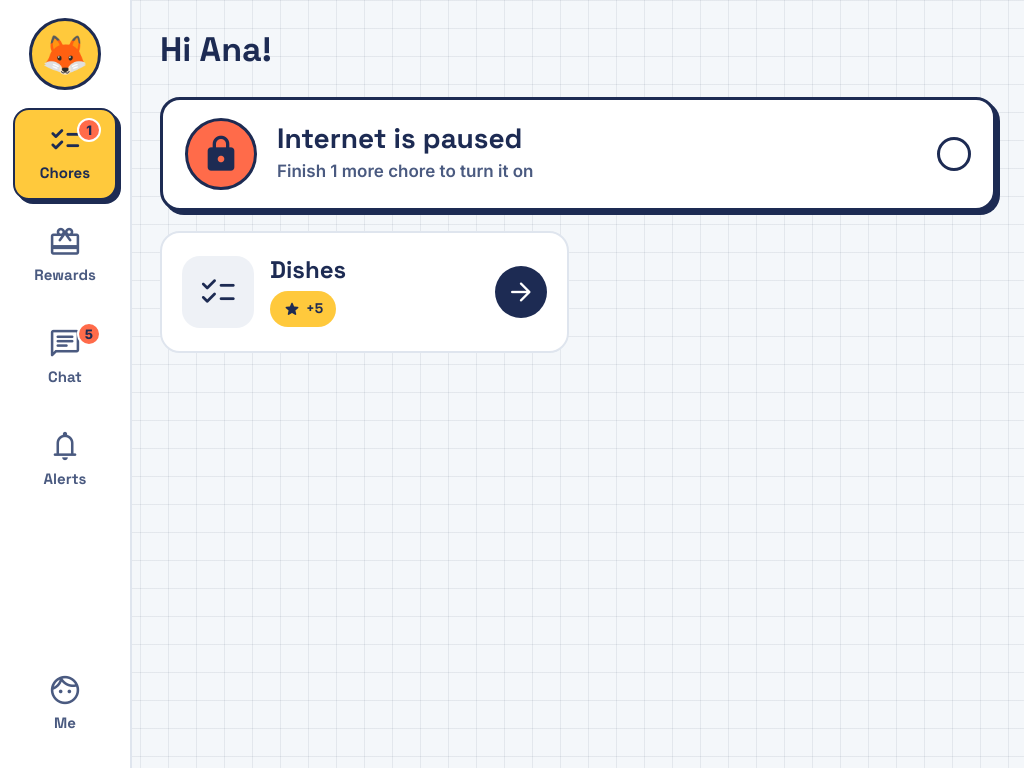
it: kid chat › chore chat link opens its thread with the kid token
This screenshot has width=1024, height=768.
Click the button named "Open Dishes".
click(201, 303)  # box [160, 231, 569, 353]
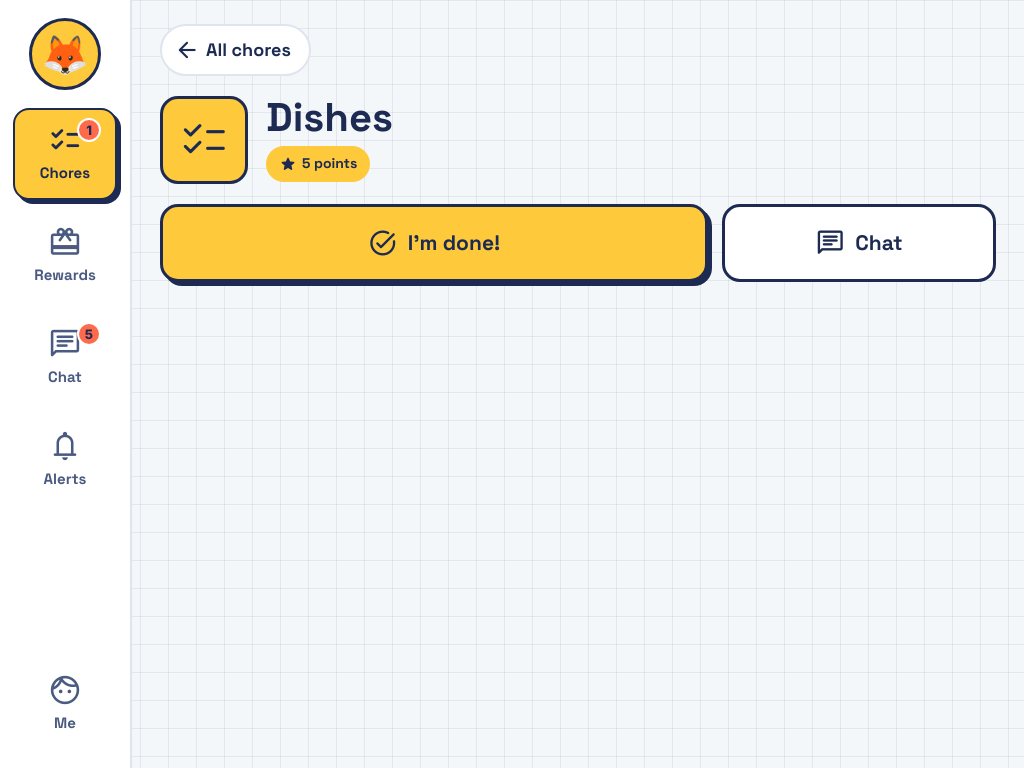
Click the 1st button "Chat".
click(859, 243)  # box [722, 204, 996, 282]
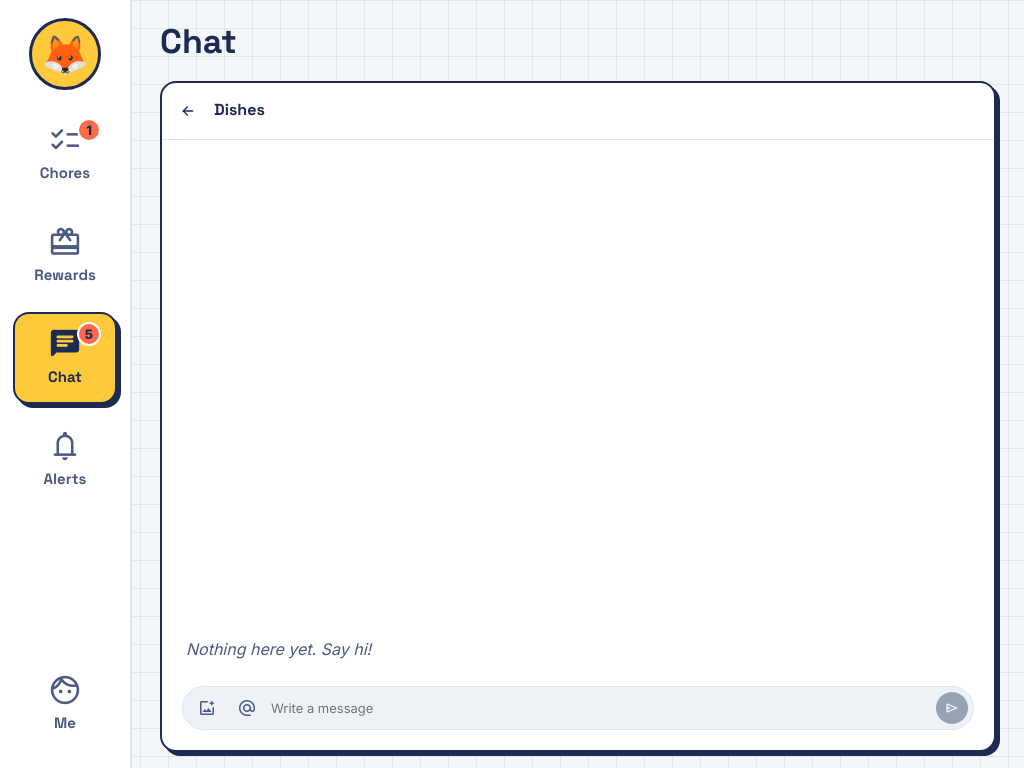
Expected: the element named "Dishes" is shown, [182, 639, 974, 730]
